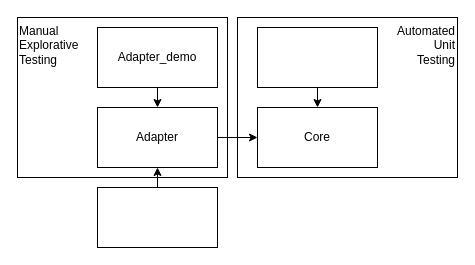
The diagram is 475 pixels wide and 265 high, and some of its shapes have lost their labels. Each missing label, with the centre of its shape:
"App" goes at point (157, 217).
"Core_test" goes at point (317, 57).
